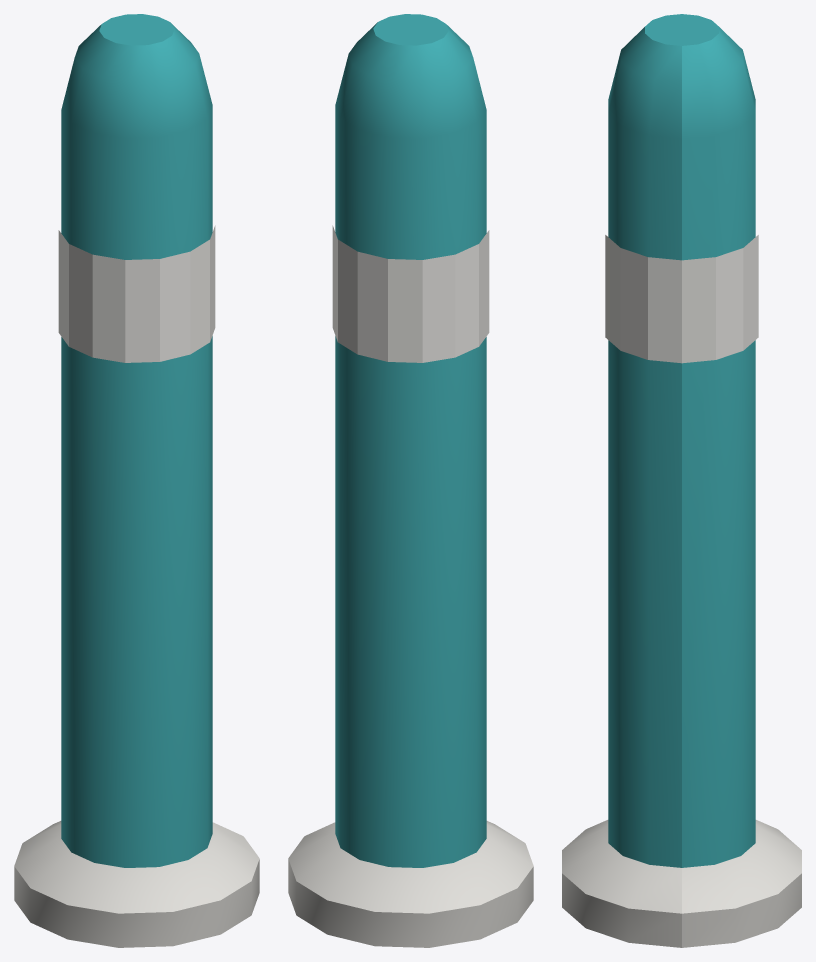
Rendered from motorway-services-and-truck-park-car-park-bollard-8e3e1029__35961.glb.
The picture shows the model from 3 angles, left to right: view 1: azimuth 30°, elevation 25°; view 2: azimuth 150°, elevation 25°; view 3: azimuth 270°, elevation 25°; orthographic projection.
Parts seen in each view (by area): view 1: car-park-bollard; view 2: car-park-bollard; view 3: car-park-bollard.
Boxes of the visible parts, x1=… form: car-park-bollard: x1=14, y1=14, x2=259, y2=947; car-park-bollard: x1=288, y1=14, x2=533, y2=947; car-park-bollard: x1=562, y1=14, x2=801, y2=947.
Bounding box in the file's own units: 0.26 × 1.01 × 0.2535.
